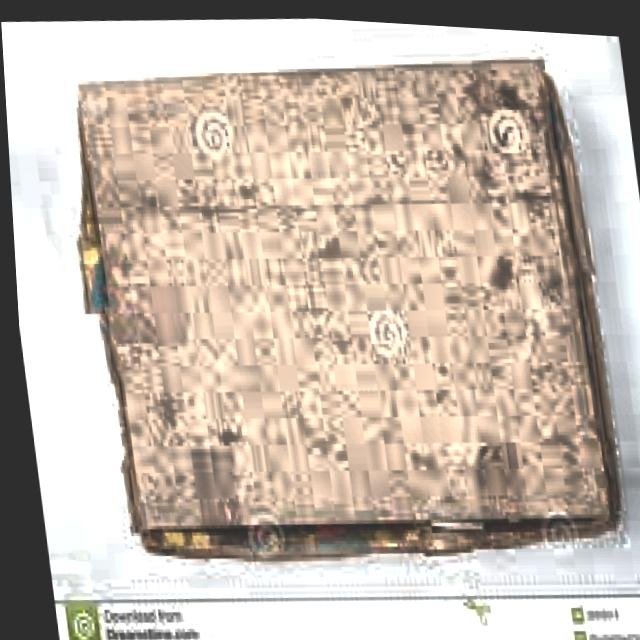Cardbox: (39, 12, 632, 599)
